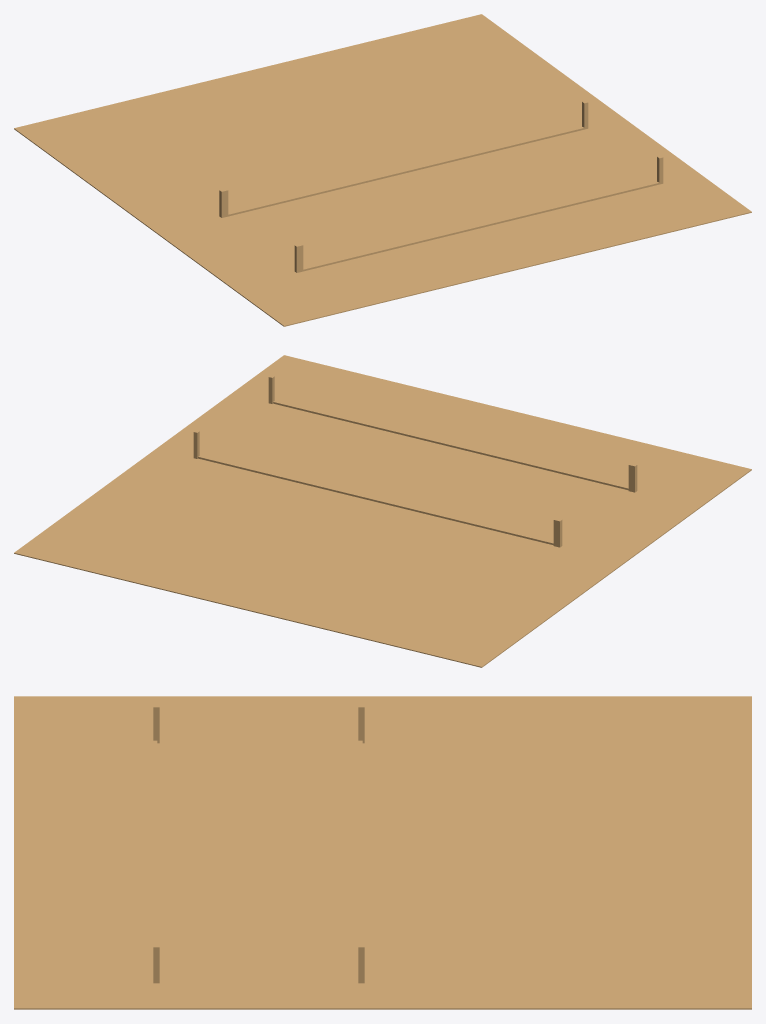
File: board.glb
The picture shows the model from 3 angles, top to bottom: view 1: azimuth 30°, elevation 25°; view 2: azimuth 150°, elevation 25°; view 3: azimuth 270°, elevation 25°; orthographic projection. The views are drawn at different scales.
Parts seen in each view (by area): view 1: Substrate_Layer_0_Z0, Unified_Net_2_Island_6, Unified_Net_1_Island_3; view 2: Substrate_Layer_0_Z0, Unified_Net_2_Island_6, Unified_Net_1_Island_3; view 3: Substrate_Layer_0_Z0, Unified_Net_1_Island_3, Unified_Net_2_Island_6.
Part boxes in pixels (bbox=[...]): Substrate_Layer_0_Z0: bbox=[14, 14, 751, 326]; Unified_Net_2_Island_6: bbox=[300, 182, 659, 271]; Unified_Net_1_Island_3: bbox=[226, 127, 584, 216]; Substrate_Layer_0_Z0: bbox=[14, 355, 751, 667]; Unified_Net_2_Island_6: bbox=[273, 401, 628, 490]; Unified_Net_1_Island_3: bbox=[198, 456, 553, 545]; Substrate_Layer_0_Z0: bbox=[14, 696, 751, 1009]; Unified_Net_1_Island_3: bbox=[358, 740, 362, 944]; Unified_Net_2_Island_6: bbox=[153, 740, 157, 944].
Bounding box in the file's own units: 0.018 × 0.001 × 0.018.
